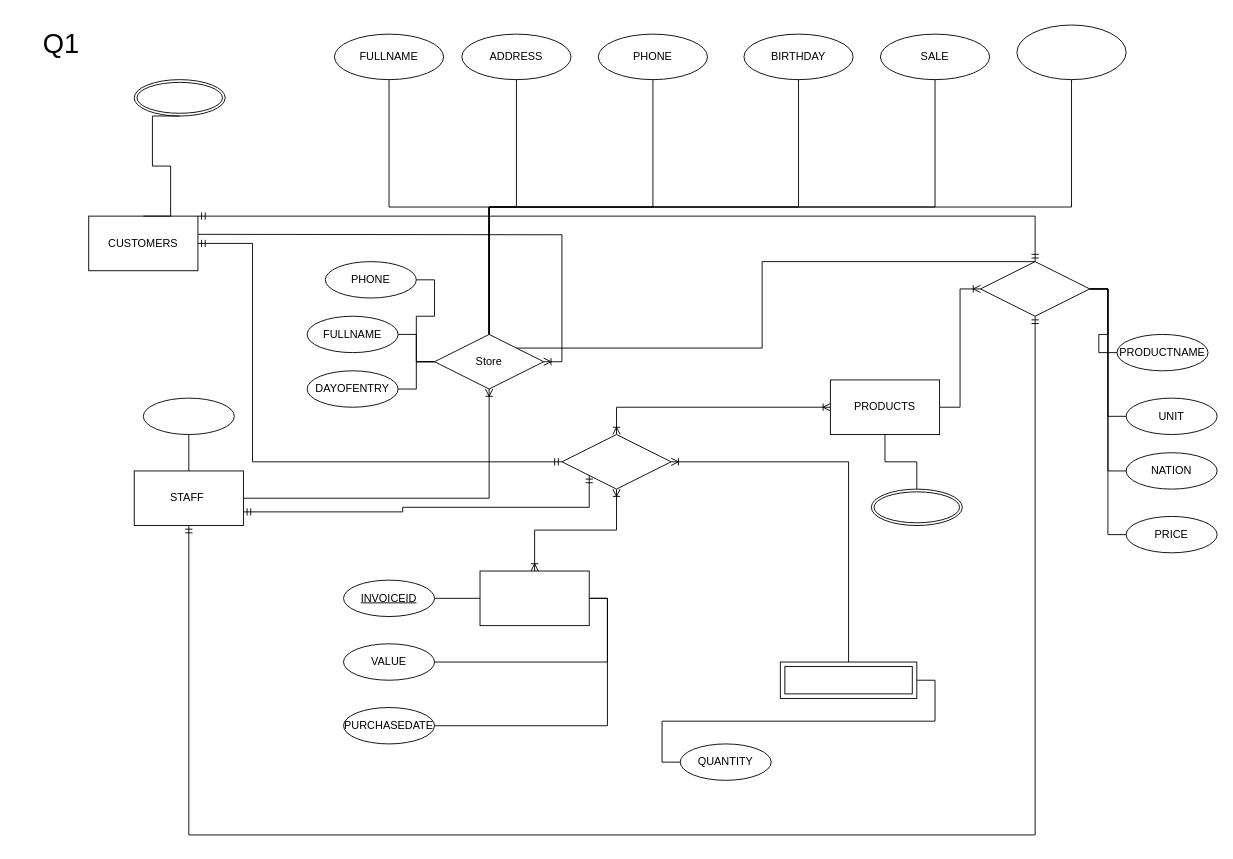
Image size: 1233x859. Some labels were removed from this diagram. The centre of each missing label's shape, as x and y in pixels:
CUSTOMERID: the point at 179,97
DETAILOFINVOICE: the point at 848,679
Identify: the point at 1035,288
INVOICE: the point at 534,598
PRODUCTID: the point at 916,507
REGISTRATIONDATE: the point at 1071,52
Show: the point at 616,461
STAFFID: the point at 188,416
